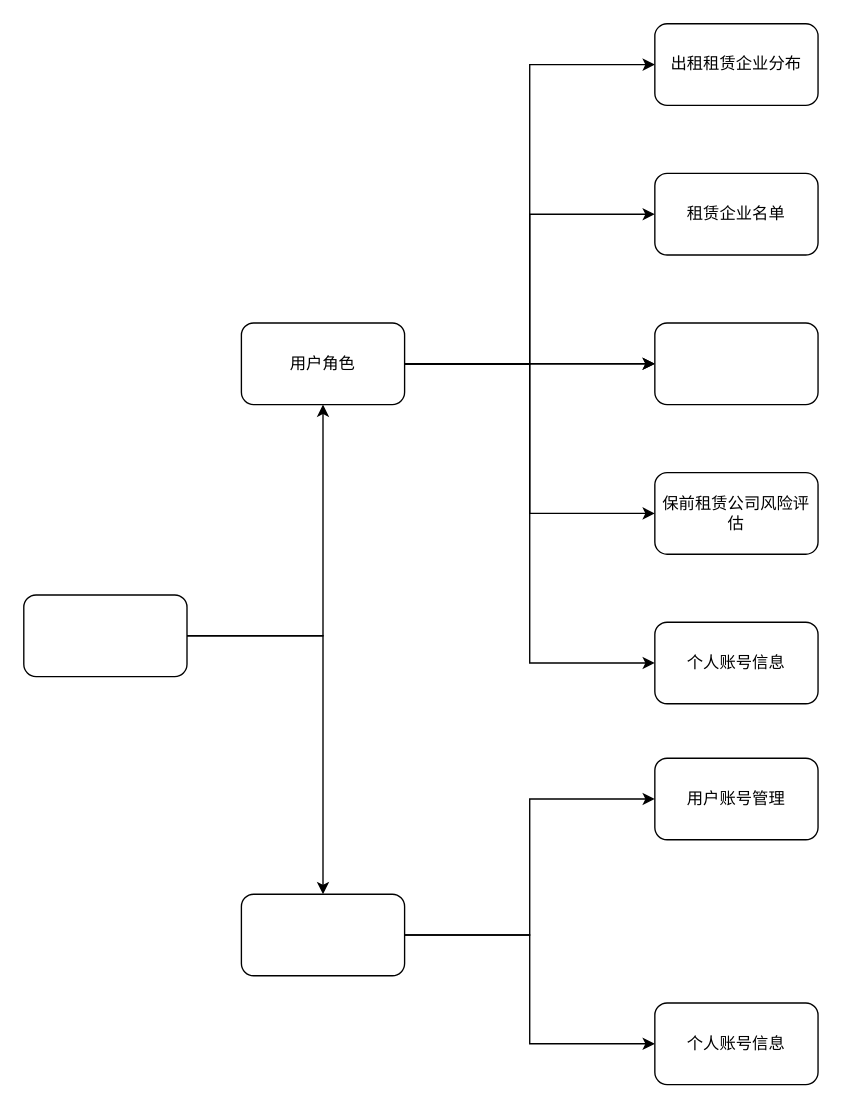
Some shapes in this 842 by 1108 pixel diagram are drawn without their labels. Each missing label, with the centre of its shape:
企业所属车险到期名单: the point at 735,363
后台管理角色: the point at 322,934
登录/注册: the point at 104,635
